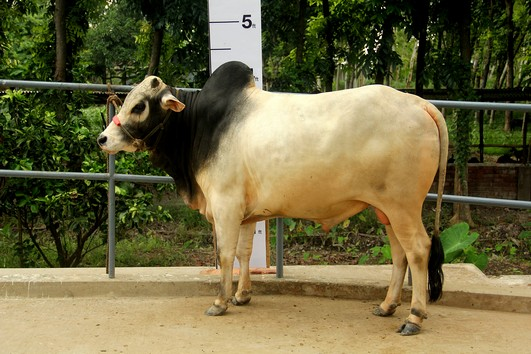cow: (91, 59, 454, 335)
